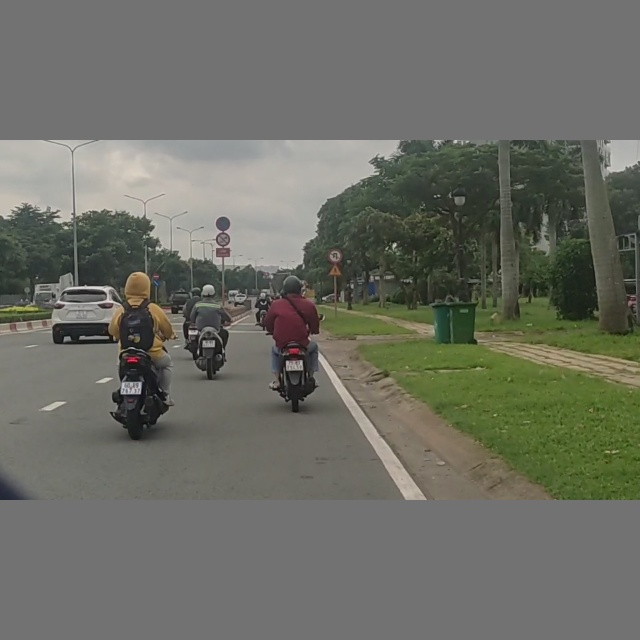P.102: (153, 272, 160, 280)
P.111: (216, 232, 230, 246)
P.124a*: (328, 247, 343, 263)
P.130: (216, 216, 231, 231)
R.302a: (152, 279, 161, 286)
W.224: (328, 263, 342, 276)
